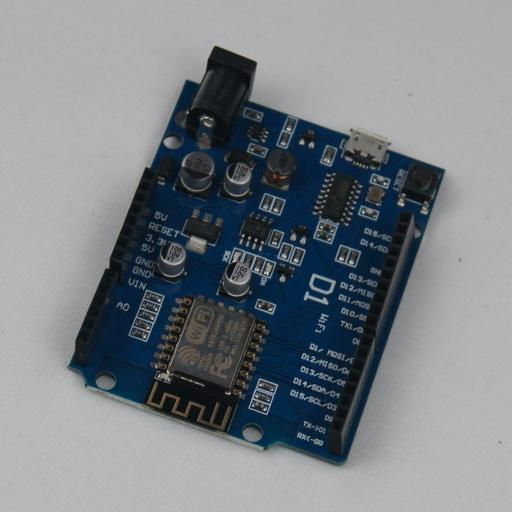Arduino Uno WiFi Shield: (67, 46, 445, 466)
